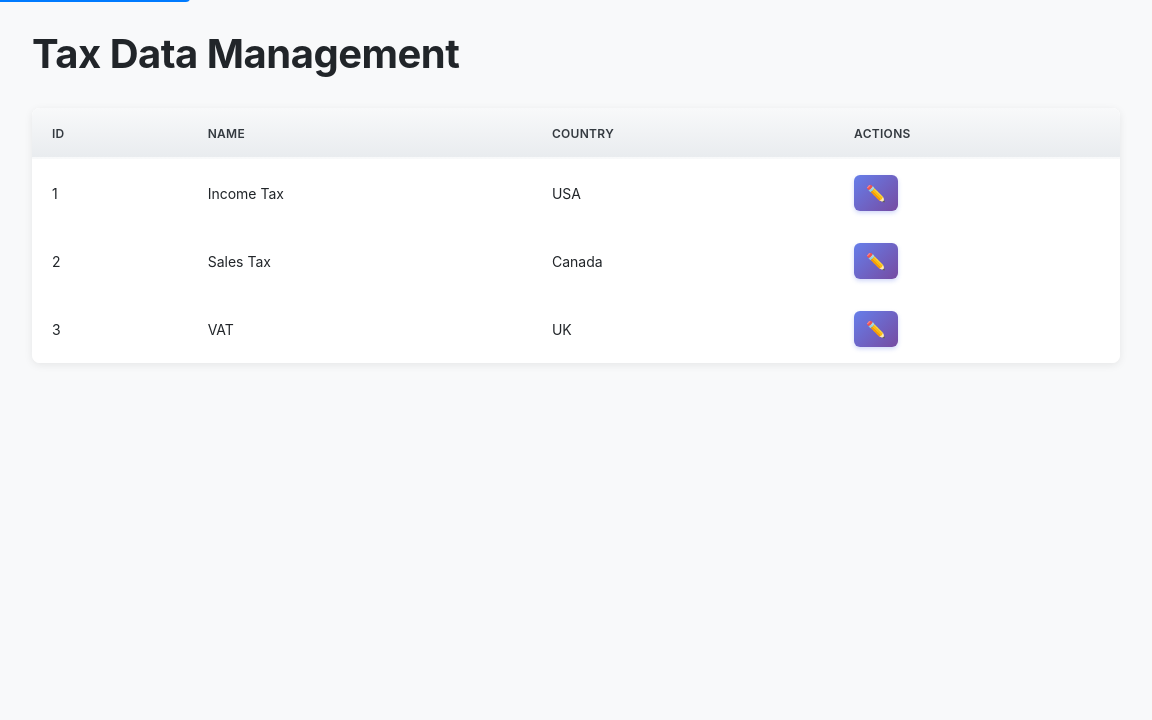
Test: TaxTablePage Integration Tests › complete cancel flow: open modal → edit → cancel → changes discarded
Check: the text "Income Tax" is shown, box [188, 159, 532, 227]
Get edit buttons after data loads
Step 1. Click the button named "edit" → point(876, 193), box [854, 175, 898, 211]
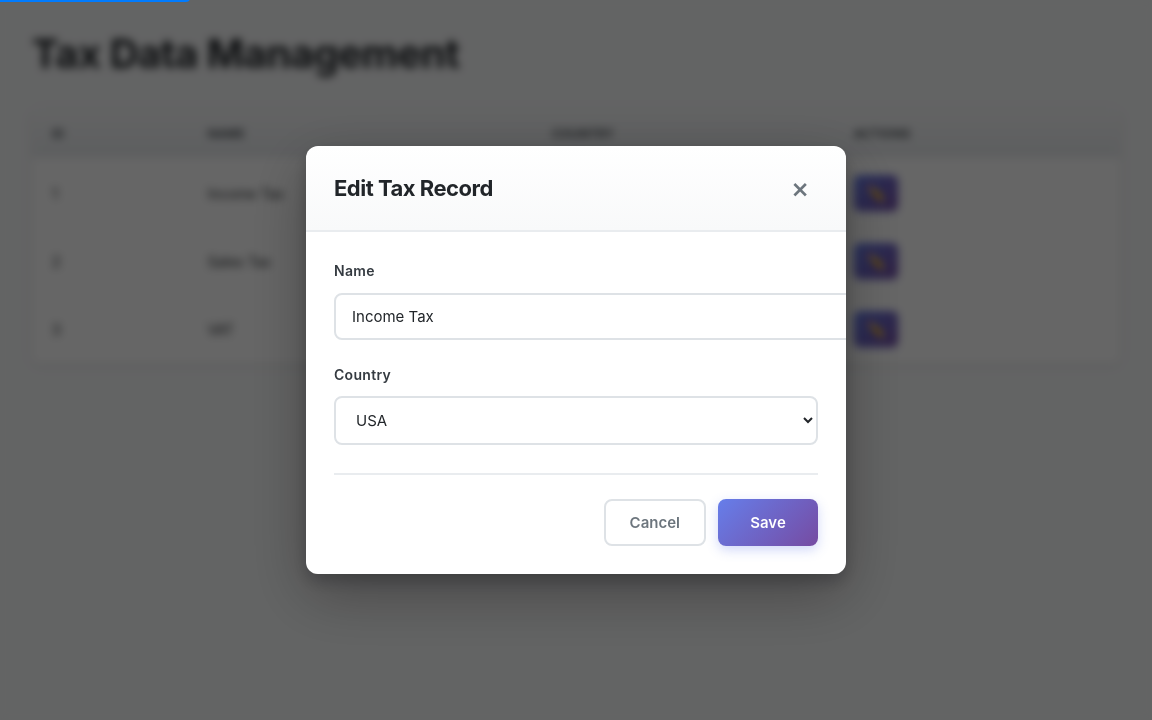
Check: the dialog is shown
Edit the name
Step 2. Clear the field named "tax name" → point(594, 316), box [334, 292, 854, 340]
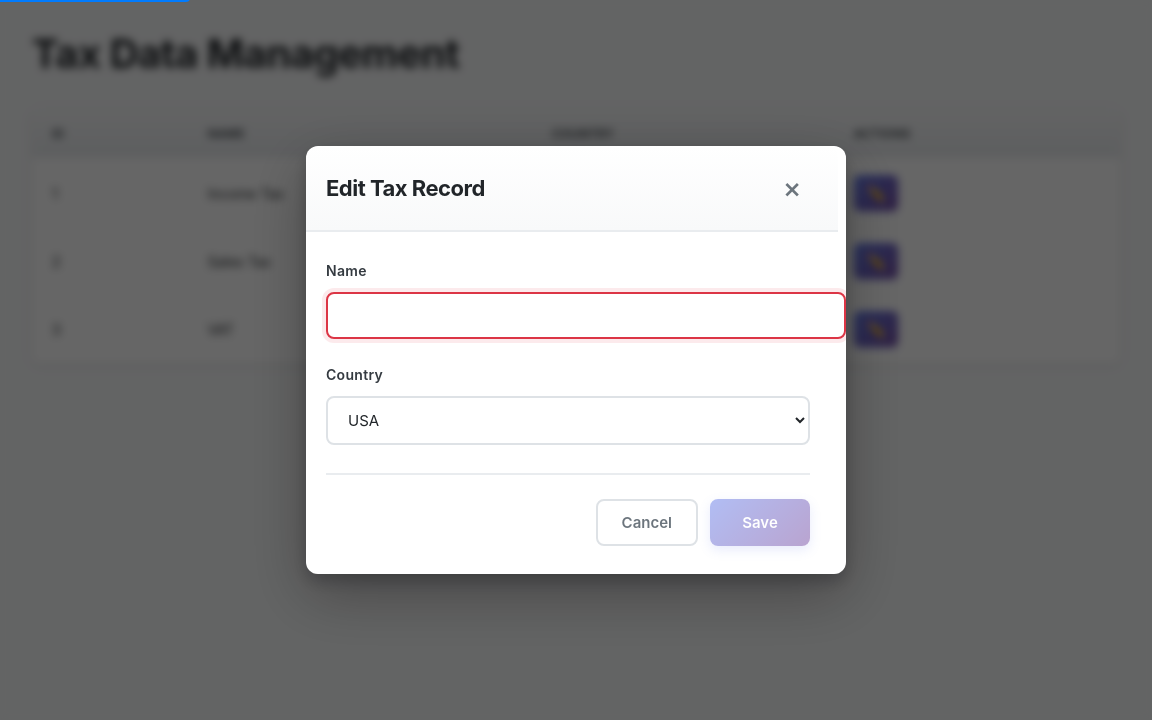
Step 3. Type "Modified Name" into the field named "tax name" → point(586, 315), box [326, 292, 846, 338]
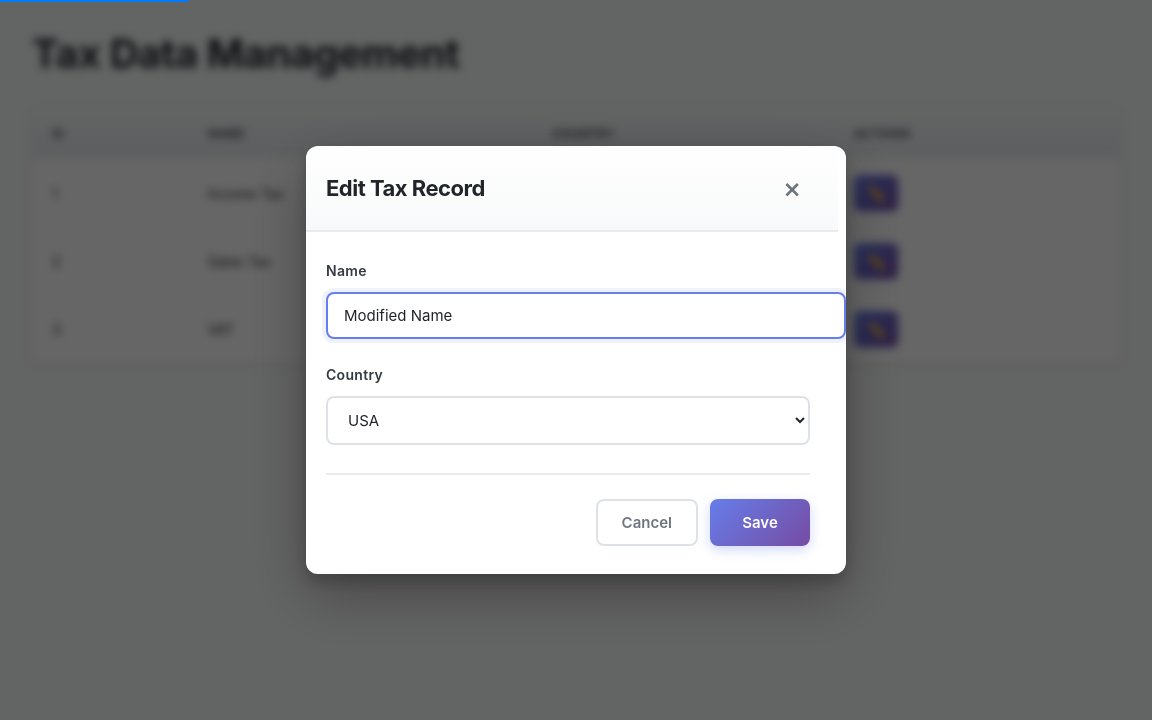
Change country
Step 4. Select "Germany" in the dropdown labelled "Country" → point(568, 420), box [326, 396, 810, 445]
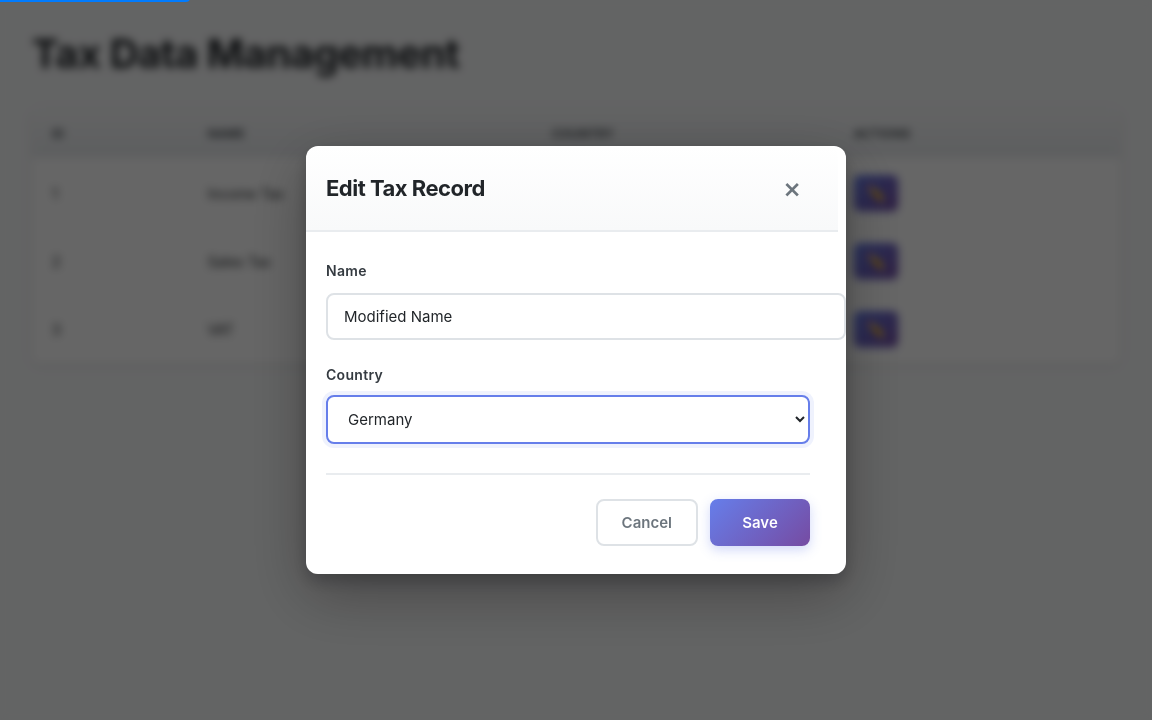
Click cancel button
Step 5. Click the button "Cancel" → point(647, 522), box [596, 499, 698, 546]
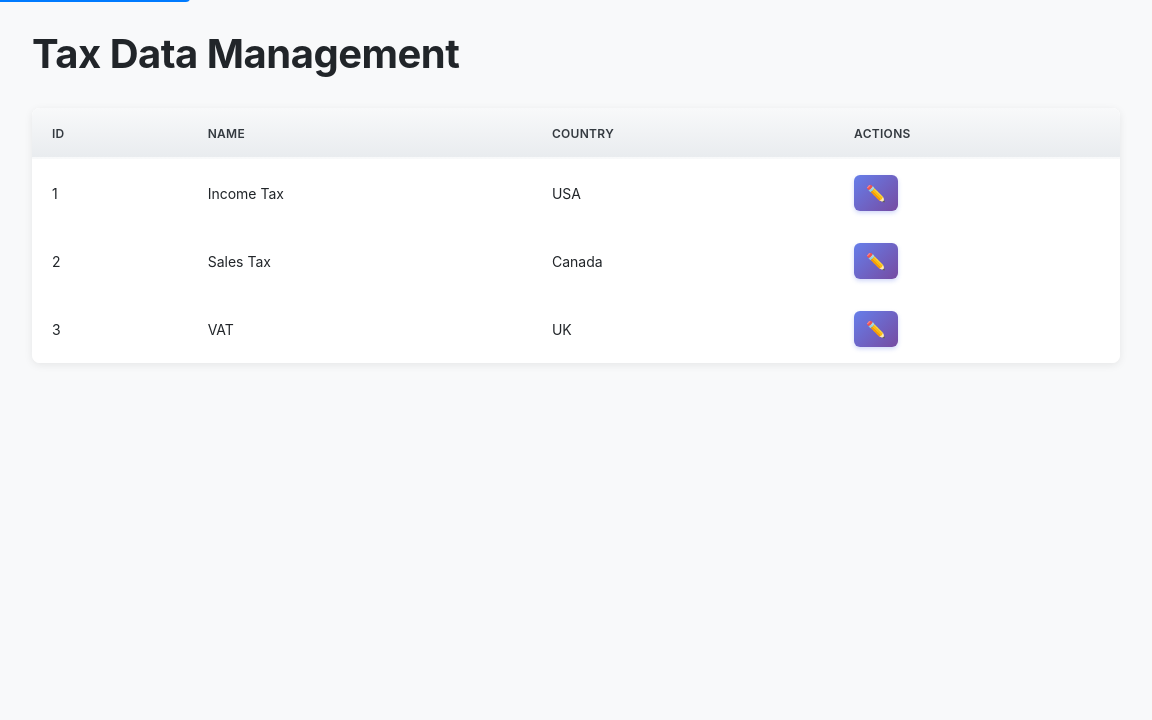
Check: the text "Income Tax" is shown, box [188, 159, 532, 227]
Check: the dialog is gone
Check: the field "Modified Name" is gone
Step 6. Click the button named "edit" → point(876, 193), box [854, 175, 898, 211]
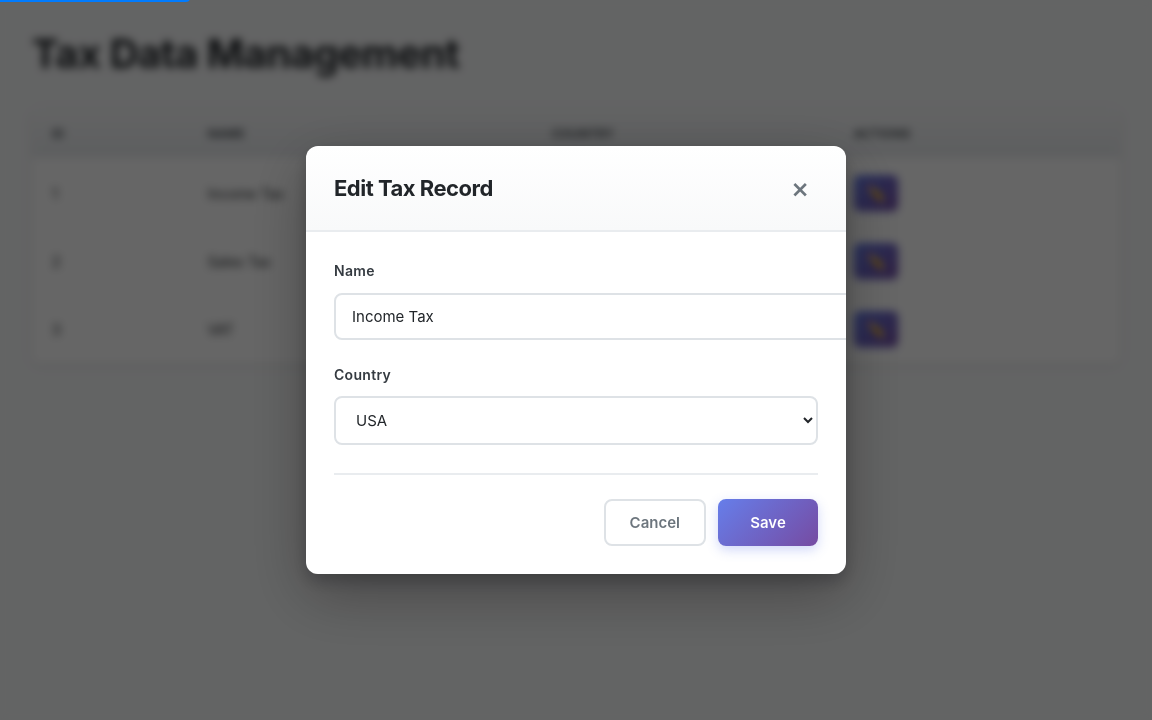
Check: the dialog is shown
Check: the field named "tax name" holds "Income Tax", box [334, 292, 846, 340]
